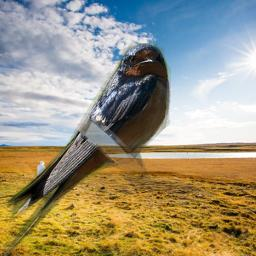Swallow: (3, 43, 171, 256)
